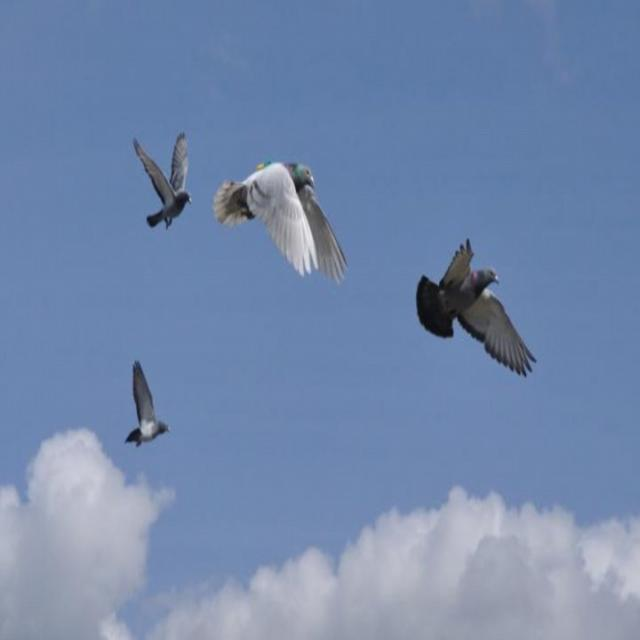bird: (414, 239, 541, 381), (212, 164, 345, 281), (131, 137, 194, 229), (126, 364, 173, 445)
